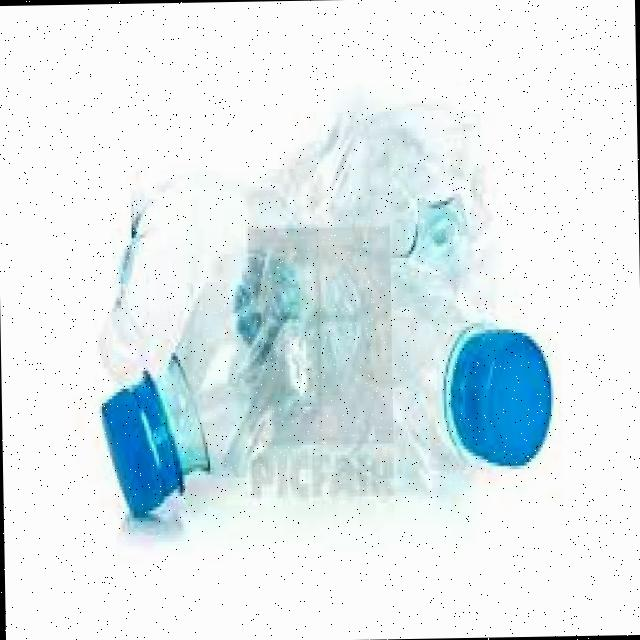bottle: (310, 69, 568, 518), (86, 82, 324, 542)
cap: (450, 329, 552, 468), (111, 398, 151, 510)
